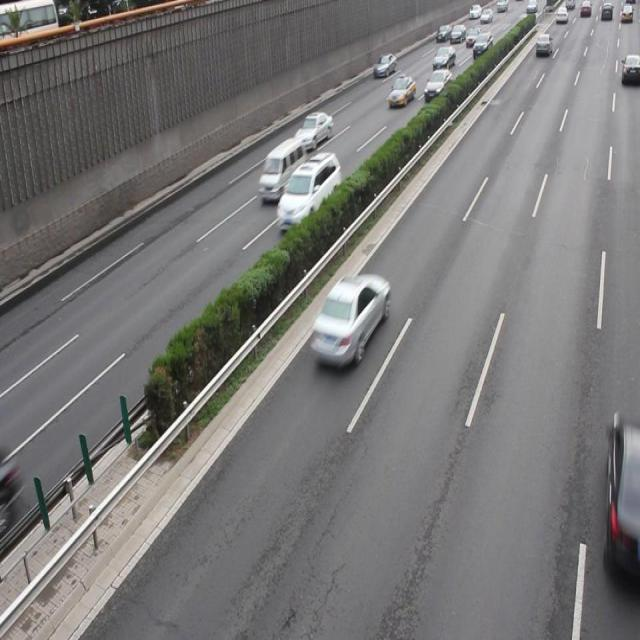car: (310, 270, 390, 369), (602, 417, 640, 574), (293, 109, 332, 146)
truck: (276, 152, 341, 231), (258, 135, 306, 202)
